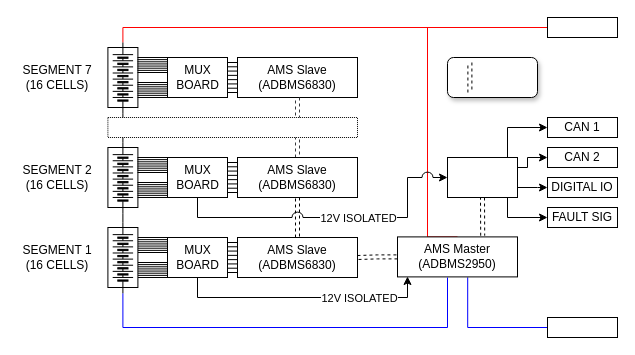
Some shapes in this 635 by 355 pixel diagram are drawn without their labels. The centre of each missing label's shape, as x and y in pixels:
"4x" belongs at (232,127).
"AMS Controller" belongs at (482,177).
"BATT+" belongs at (582,27).
"BATT-" belongs at (582,327).
"IsoSPI" belongs at (493,78).
